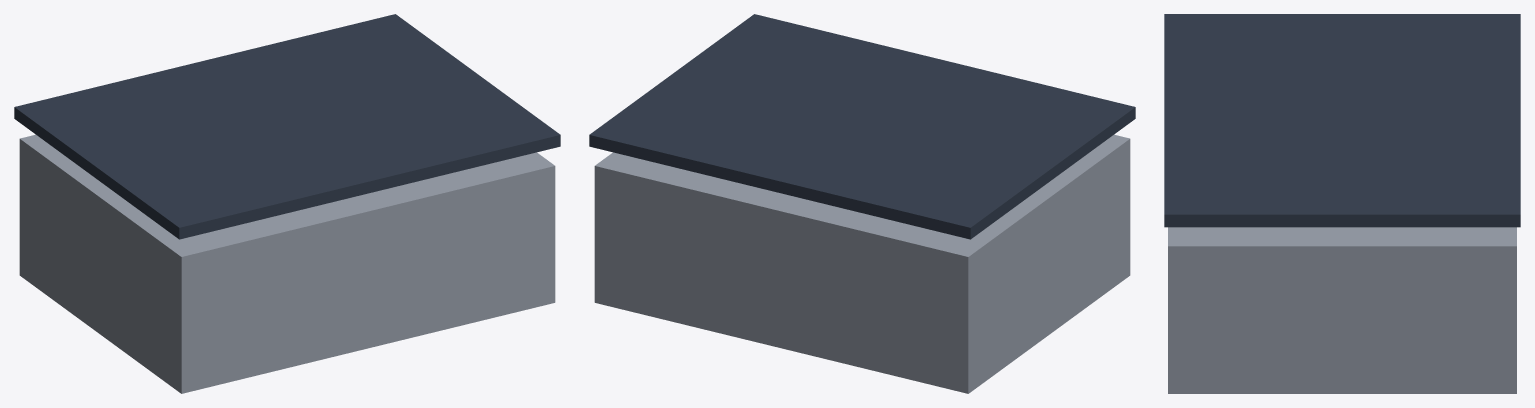
Rendered from welcome.glb.
3 renders of one model, left to right at view 1: azimuth 30°, elevation 25°; view 2: azimuth 150°, elevation 25°; view 3: azimuth 270°, elevation 25°, orthographic. The views are drawn at different scales.
Visible parts, largest first — view 1: welcome; view 2: welcome; view 3: welcome.
Boxes of the visible parts, left/top/right/bottom form: welcome: left=14, top=14, right=560, bottom=393; welcome: left=589, top=14, right=1135, bottom=393; welcome: left=1164, top=14, right=1520, bottom=393.
Bounding box in the file's own units: 6.12 × 2.58 × 4.59.
